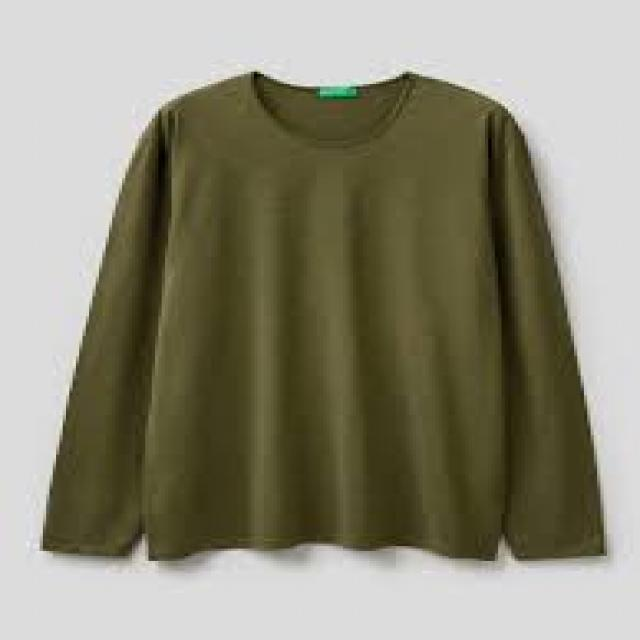plain: (0, 48, 635, 584)
